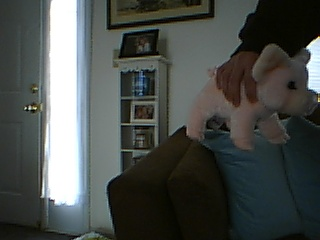piggy: (185, 43, 320, 153)
